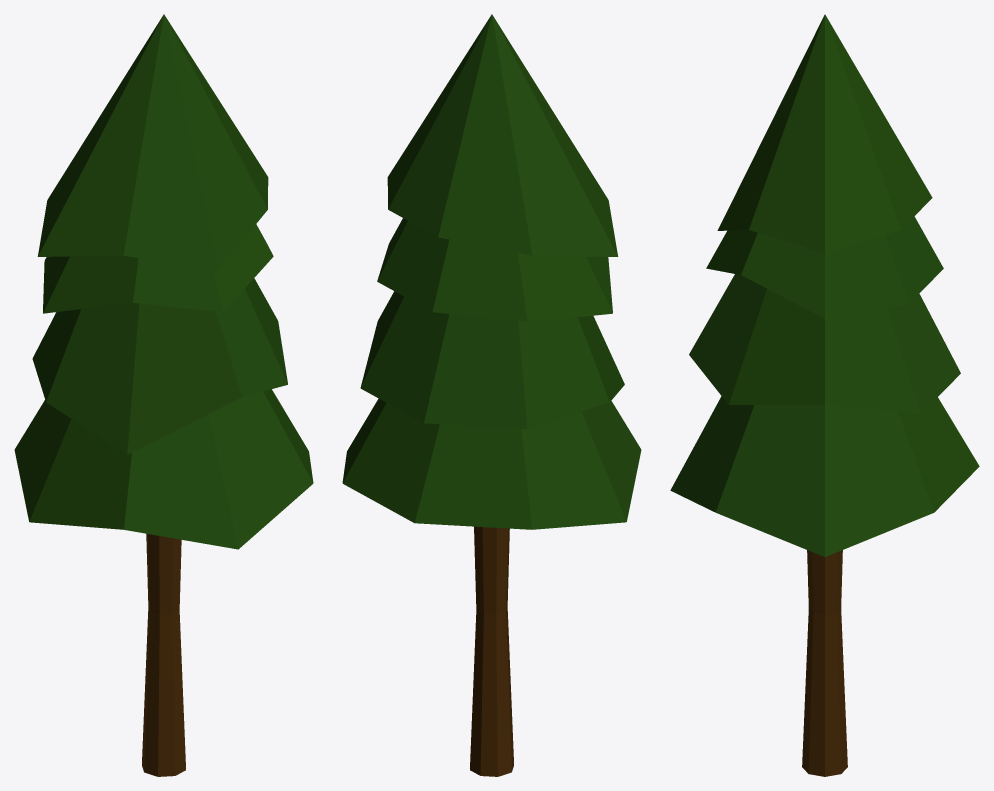
File: agac_1.fbx
3 renders of one model, left to right at view 1: azimuth 30°, elevation 25°; view 2: azimuth 150°, elevation 25°; view 3: azimuth 270°, elevation 25°, orthographic.
Parts seen in each view (by area): view 1: Agac2; view 2: Agac2; view 3: Agac2.
Boxes of the visible parts, x1=… form: Agac2: x1=14, y1=14, x2=313, y2=776; Agac2: x1=342, y1=14, x2=641, y2=776; Agac2: x1=670, y1=14, x2=979, y2=776.
Size of the model in its own units: 116 by 299 by 111.
